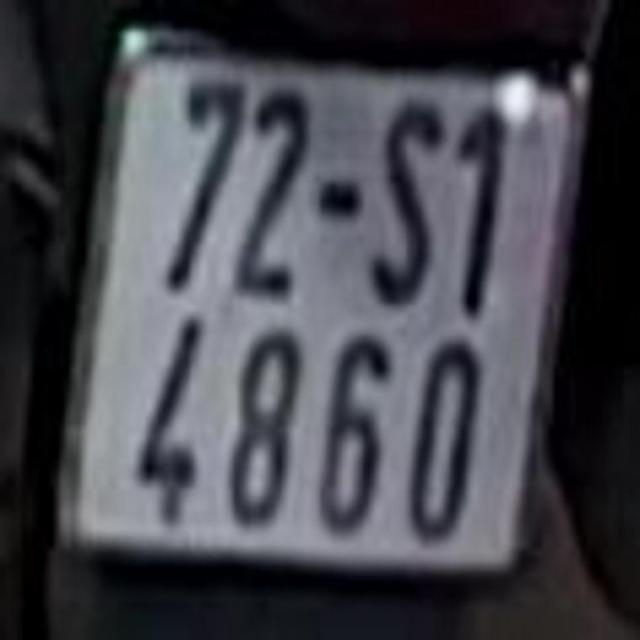0: (402, 331, 481, 548)
1: (456, 97, 514, 313)
2: (244, 84, 312, 295)
4: (131, 308, 205, 522)
6: (315, 324, 389, 536)
7: (165, 78, 241, 292)
8: (226, 326, 298, 526)
S: (370, 93, 444, 304)
